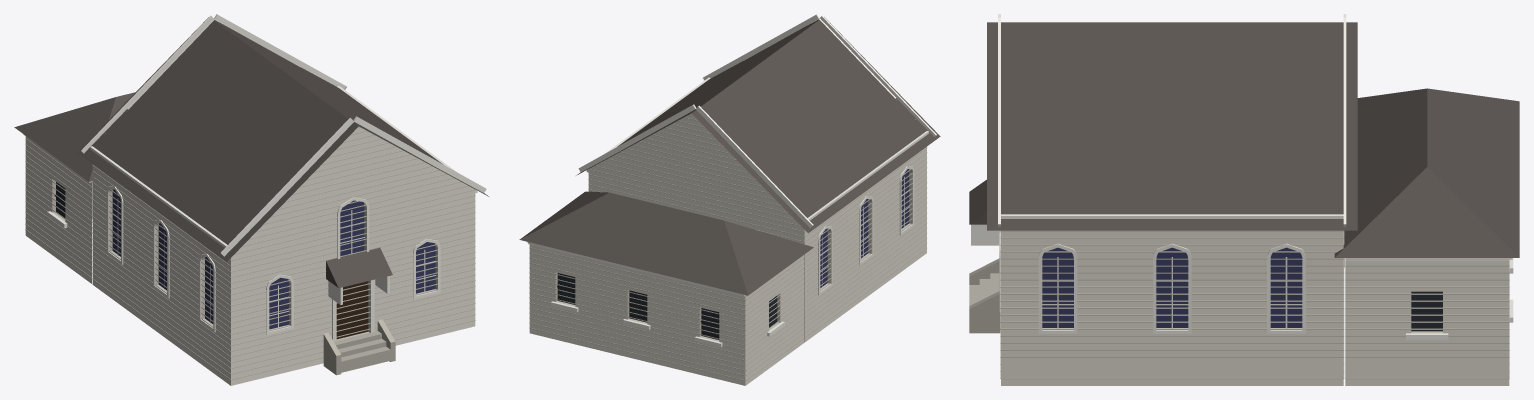
File: ch-church-of-god-1913.glb
3 renders of one model, left to right at view 1: azimuth 30°, elevation 25°; view 2: azimuth 150°, elevation 25°; view 3: azimuth 270°, elevation 25°, orthographic. The views are drawn at different scales.
Visible parts, largest first — view 1: ch_brick, ch_roof, ch_brick2, ch_trim, ch_stain, ch_conc, ch_roof2, ch_door; view 2: ch_brick, ch_roof, ch_brick2, ch_trim, ch_glass, ch_stain; view 3: ch_roof, ch_brick, ch_brick2, ch_trim, ch_stain, ch_conc, ch_glass, ch_roof2.
Boxes of the visible parts, x1,y1,x2,y2 form: ch_brick: (25,126,475,385); ch_roof: (14,17,488,261); ch_brick2: (25,111,475,380); ch_trim: (23,14,486,341); ch_stain: (112,189,435,329); ch_conc: (323,319,395,375); ch_roof2: (326,247,392,287); ch_door: (336,281,368,339); ch_brick: (529,113,926,385); ch_roof: (519,17,940,295); ch_brick2: (529,113,927,380); ch_trim: (527,14,936,347); ch_glass: (557,273,777,339); ch_stain: (820,169,909,287); ch_roof: (987,22,1519,257); ch_brick: (1001,231,1509,385); ch_brick2: (1000,230,1509,379); ch_trim: (971,14,1513,340); ch_stain: (1042,247,1302,327); ch_conc: (969,258,1000,333); ch_glass: (1411,291,1442,331); ch_roof2: (969,179,986,224).
Size of the model in its own units: 10.75 by 9.38 by 15.62.
